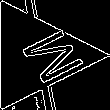M_SW: (0, 23, 75, 87)
